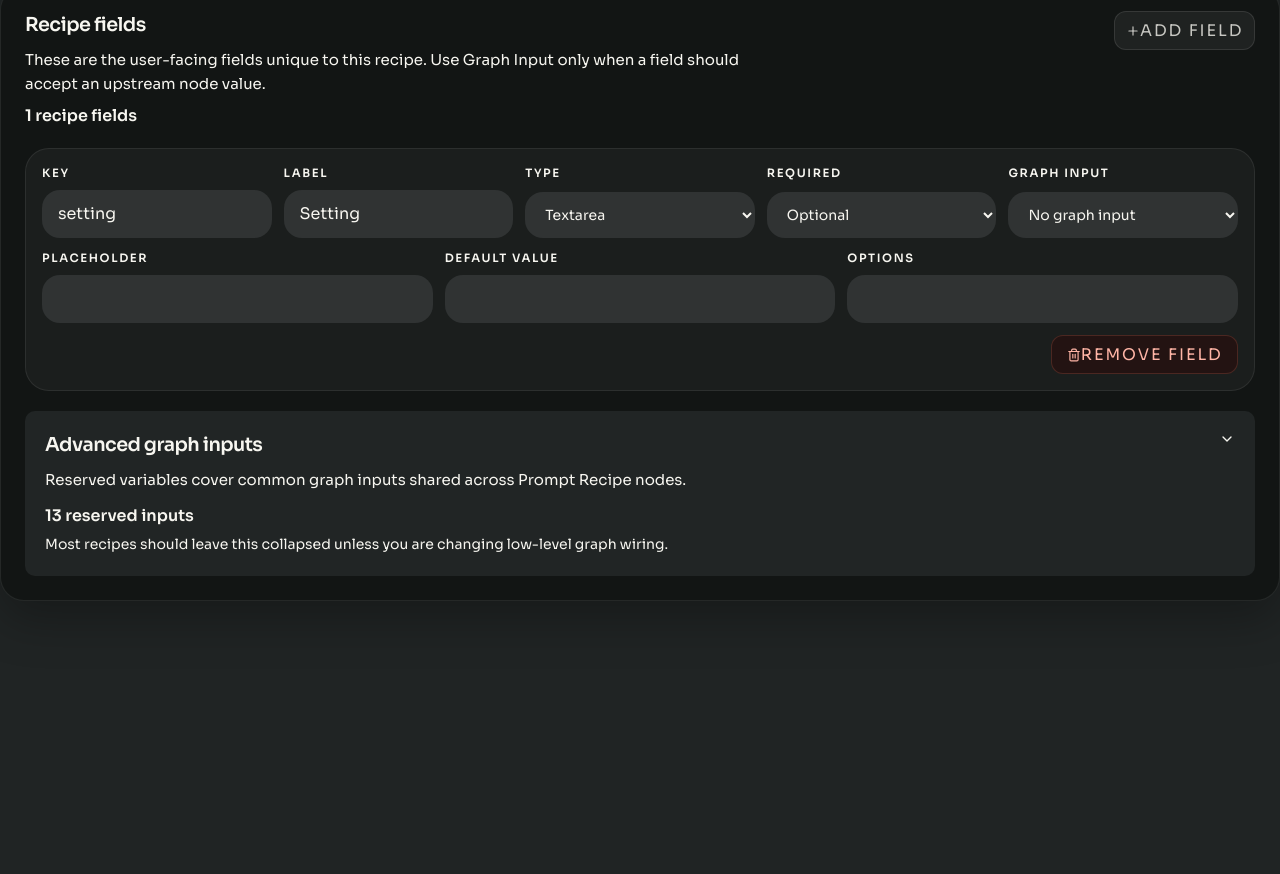
PromptRecipeVariablesPanel › keeps reserved graph inputs collapsed while custom fields stay prominent
Expected: the heading "Recipe fields" is shown, 25,12 -> 146,37
Expected: the field showing "setting" is shown, 42,190 -> 272,238
What coordinates should you click on to do the following:
click the heading "Advanced graph inputs"
I would click on:
 (154, 445)
Its box is 45,432 -> 262,457.
(page scrolled)
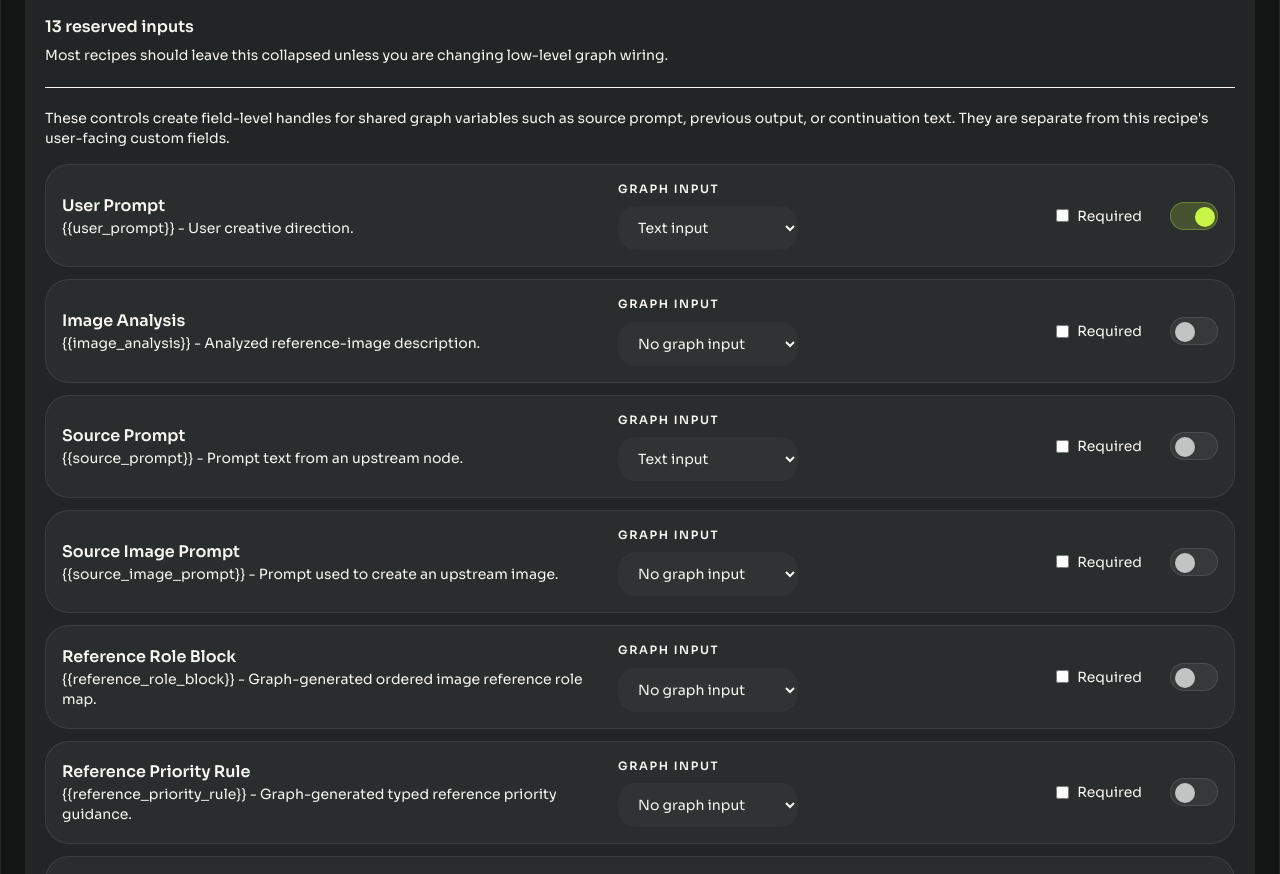
Expected: the text "Source Prompt" is shown, 62,425 -> 185,446
